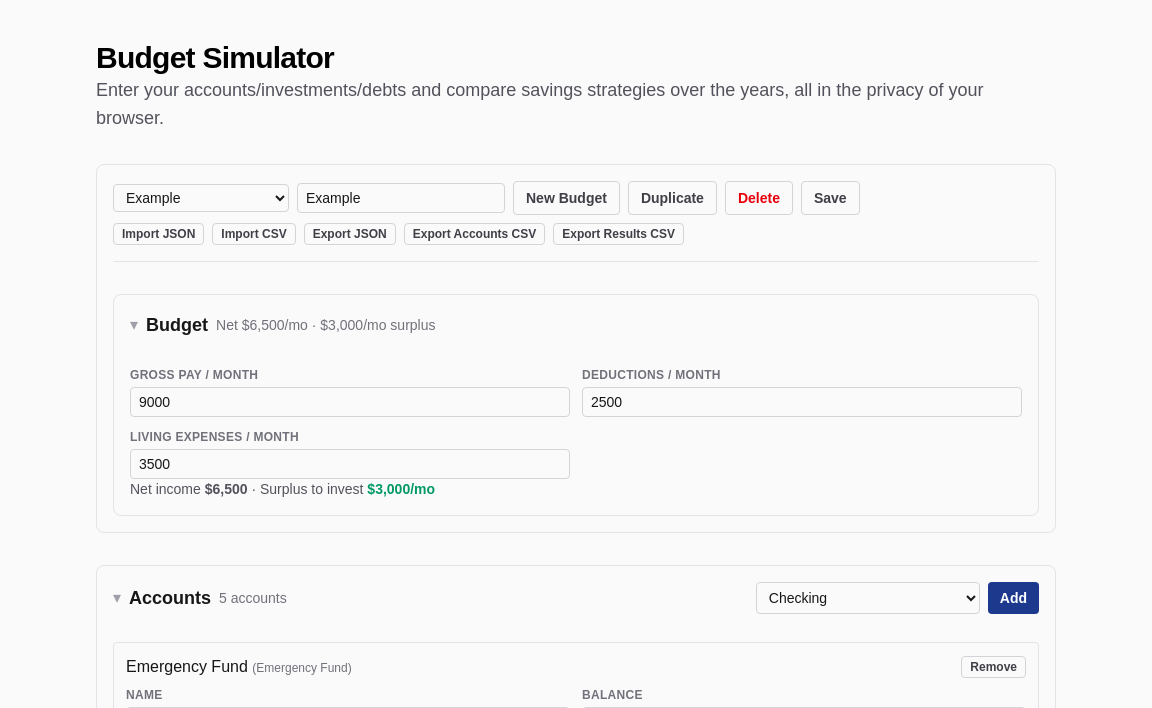
it: Home › deletes the active budget and falls back to another
Click the button "New Budget". click: (566, 198)
box: top-left (513, 181), bottom-right (620, 215)
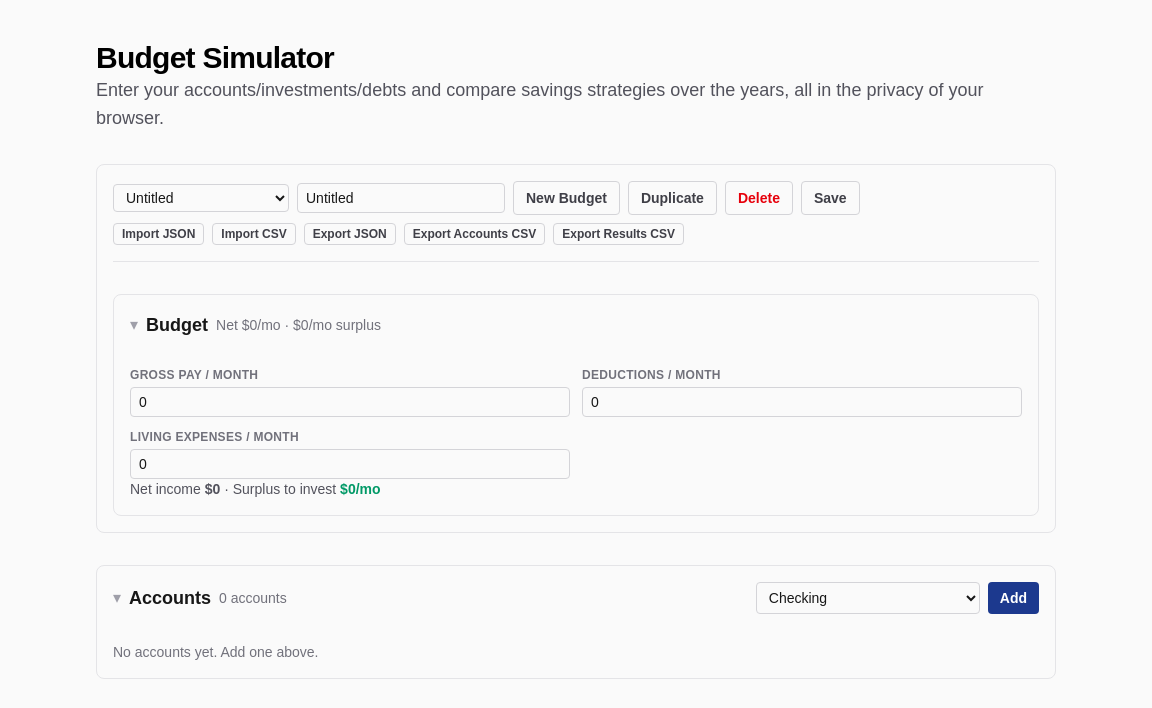
Click the button "Delete". click: (759, 198)
box: top-left (725, 181), bottom-right (793, 215)
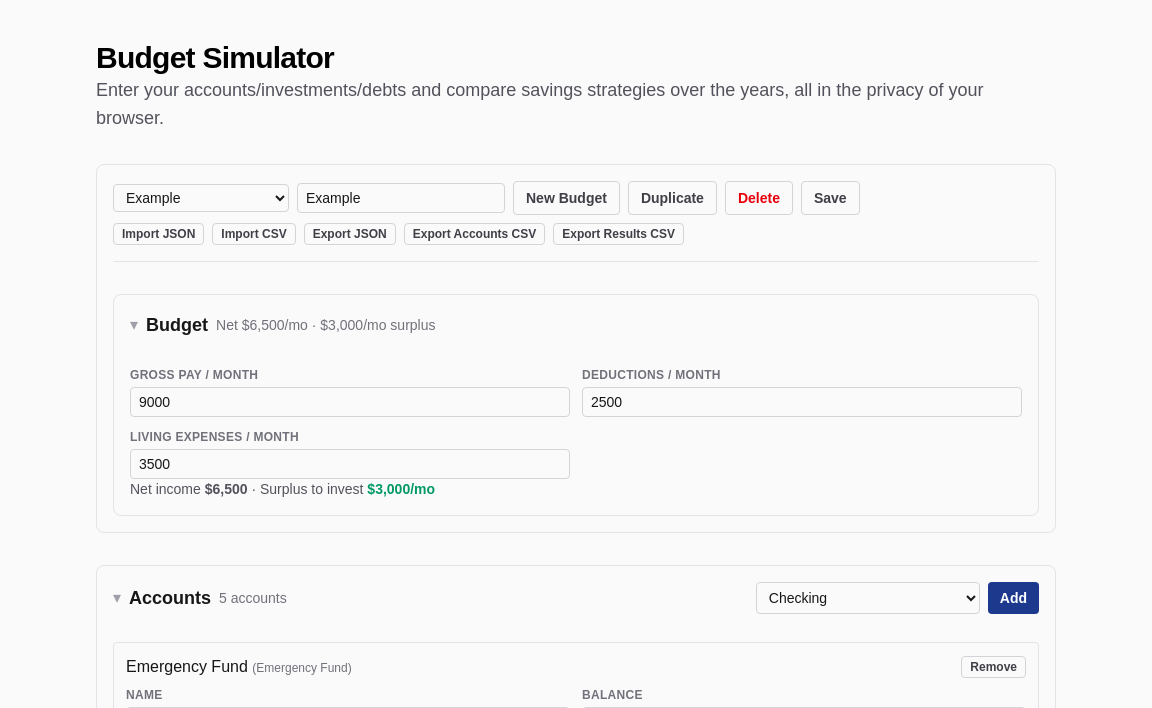
Expected: the field named "Budget name" holds "Example", top-left (297, 183), bottom-right (505, 213)
